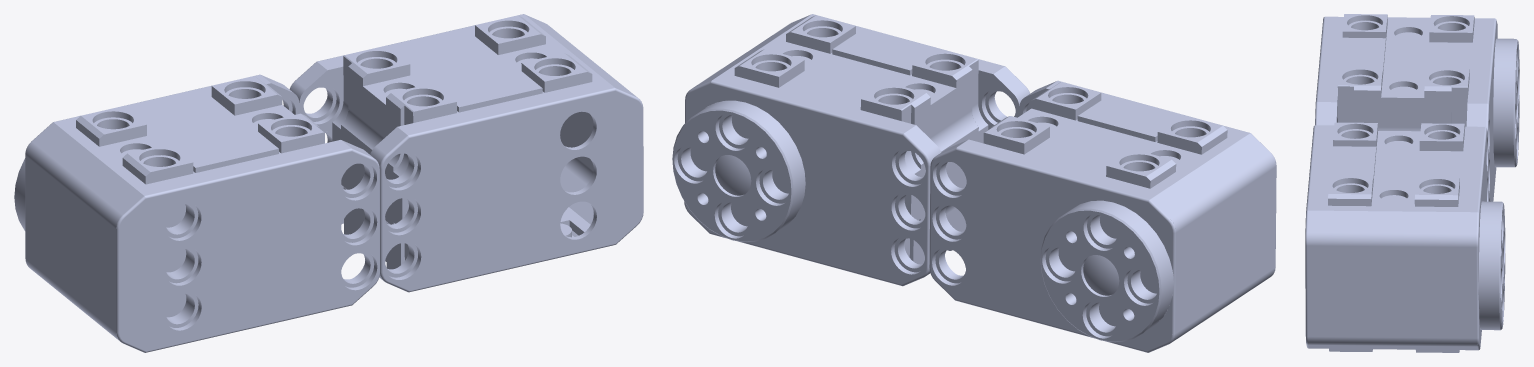
3 views of the same model, side by side, from view 1: azimuth 30°, elevation 25°; view 2: azimuth 150°, elevation 25°; view 3: azimuth 270°, elevation 25° (orthographic). The views are drawn at different scales.
Parts seen in each view (by area): view 1: Imported1_DC_Shell, NONE_DC_Shell; view 2: Imported1_DC_Shell, NONE_DC_Shell; view 3: NONE_DC_Shell, Imported1_DC_Shell.
Part boxes in pixels (x1=…): Imported1_DC_Shell: x1=14, y1=74, x2=379, y2=352; NONE_DC_Shell: x1=289, y1=14, x2=643, y2=292; Imported1_DC_Shell: x1=929, y1=80, x2=1276, y2=352; NONE_DC_Shell: x1=672, y1=14, x2=1029, y2=286; NONE_DC_Shell: x1=1305, y1=122, x2=1505, y2=352; Imported1_DC_Shell: x1=1315, y1=14, x2=1519, y2=201.
Bounding box in the file's own units: 72.9 × 24.48 × 29.67.
